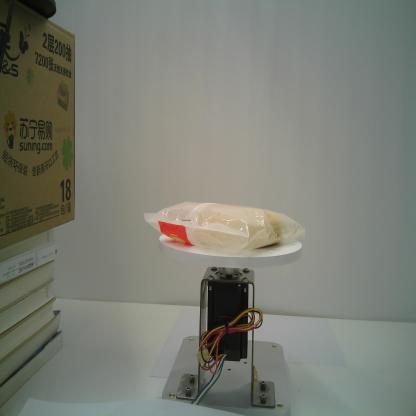Dessert: (143, 200, 308, 257)
